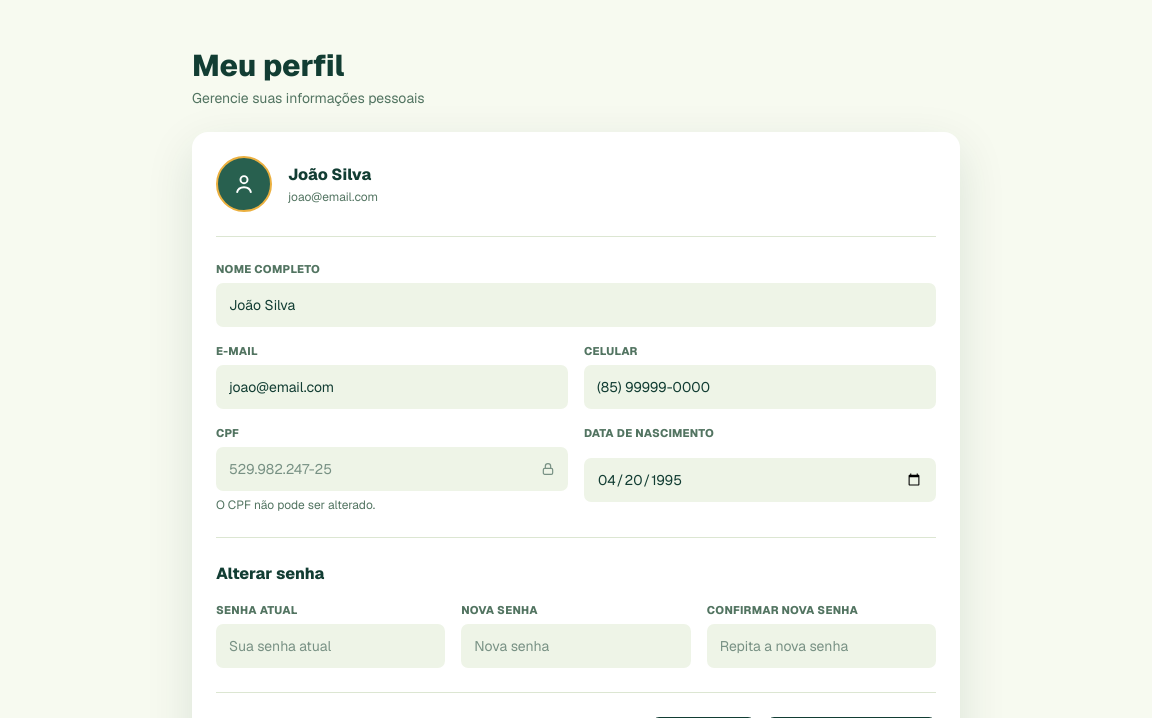
EdicaoPerfilPage › Cancelar descarta o que foi digitado e volta aos dados salvos
Replace the text in the field labelled "Nome completo" with "Outro nome" at (576, 305), box [216,283,936,327]
(page scrolled)
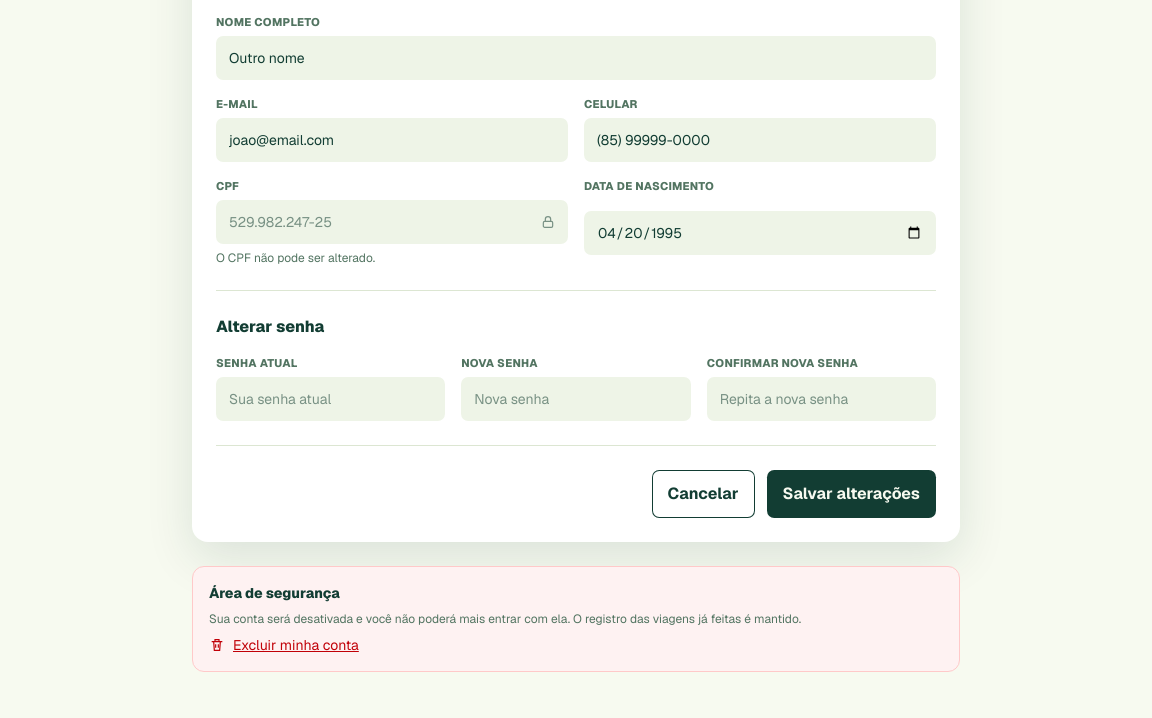
Click the button "Cancelar" at (703, 494), box [652,470,755,518]
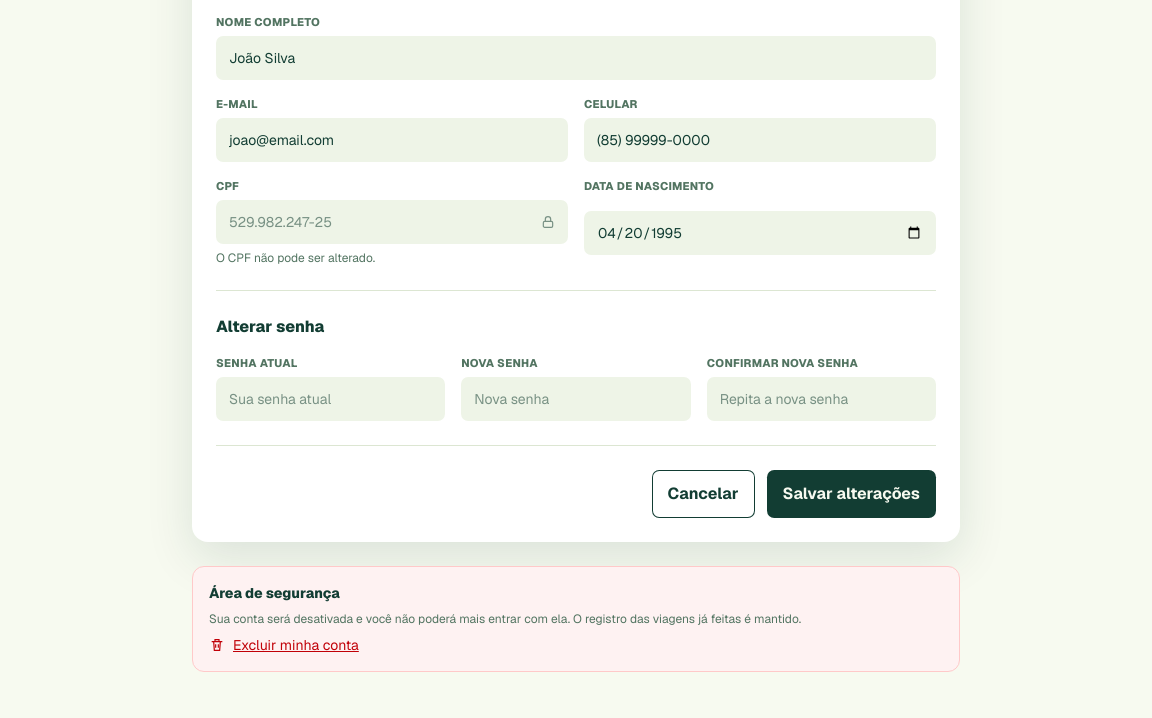
Result: the field labelled "Nome completo" holds "João Silva" at [216,36,936,80]
